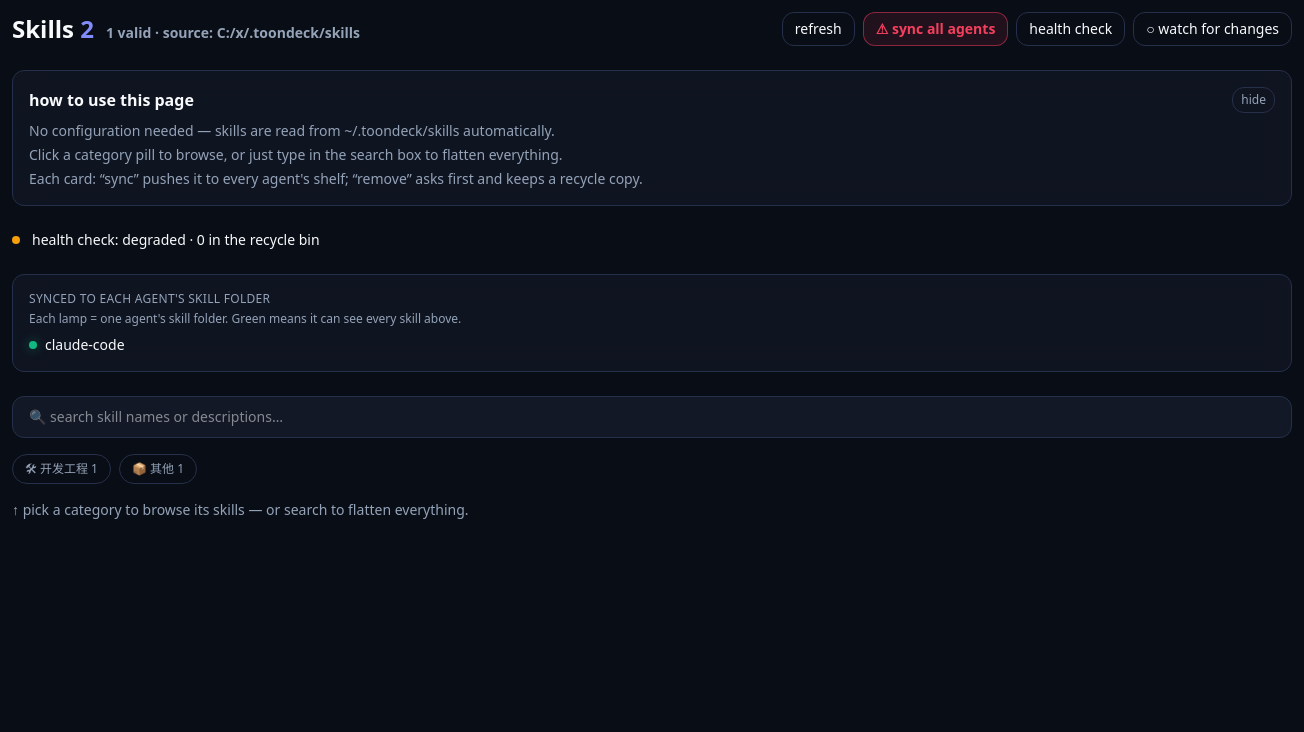
Scenario: SkillsPanel card actions (UX-017) › surfaces a toast when single-skill sync fails
Step 1. Click the button with test id "category-pill-📦 其他" → {"x": 158, "y": 469}, box [119, 454, 197, 484]
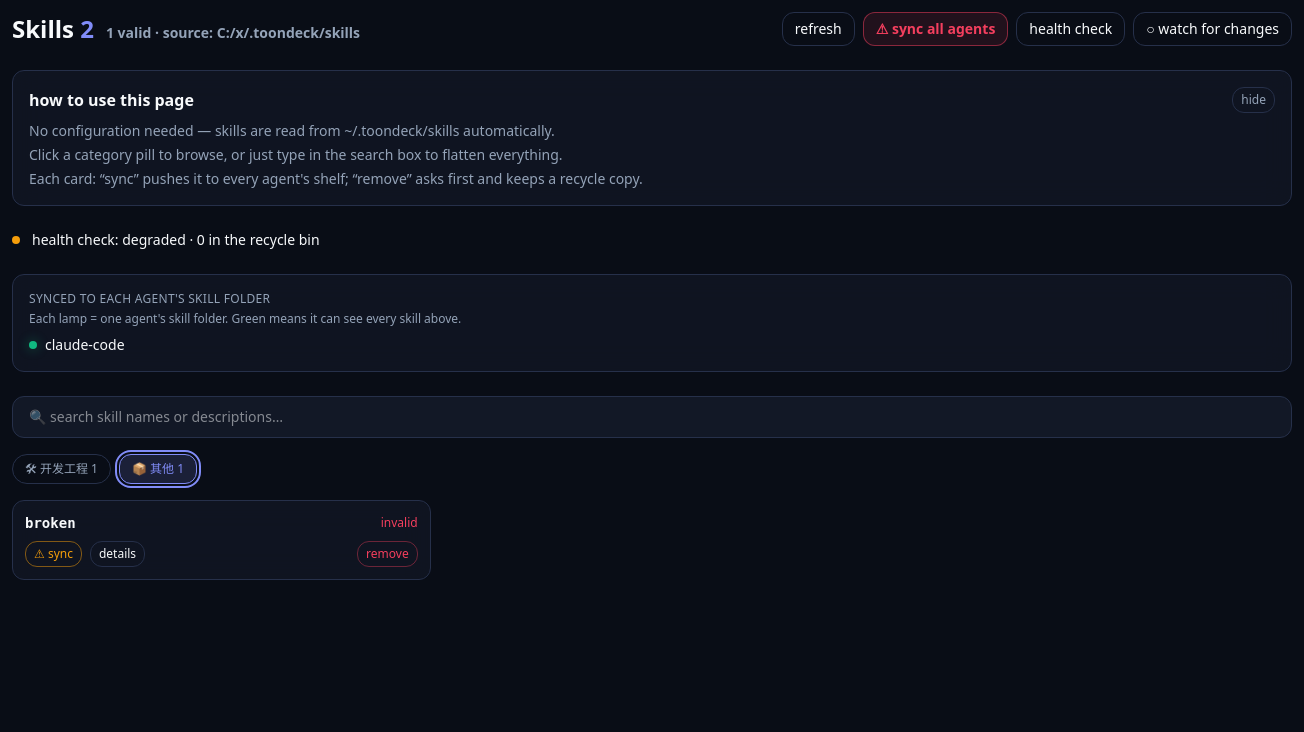
Step 2. Click the button with test id "skill-sync-broken" → {"x": 53, "y": 554}, box [25, 541, 82, 567]
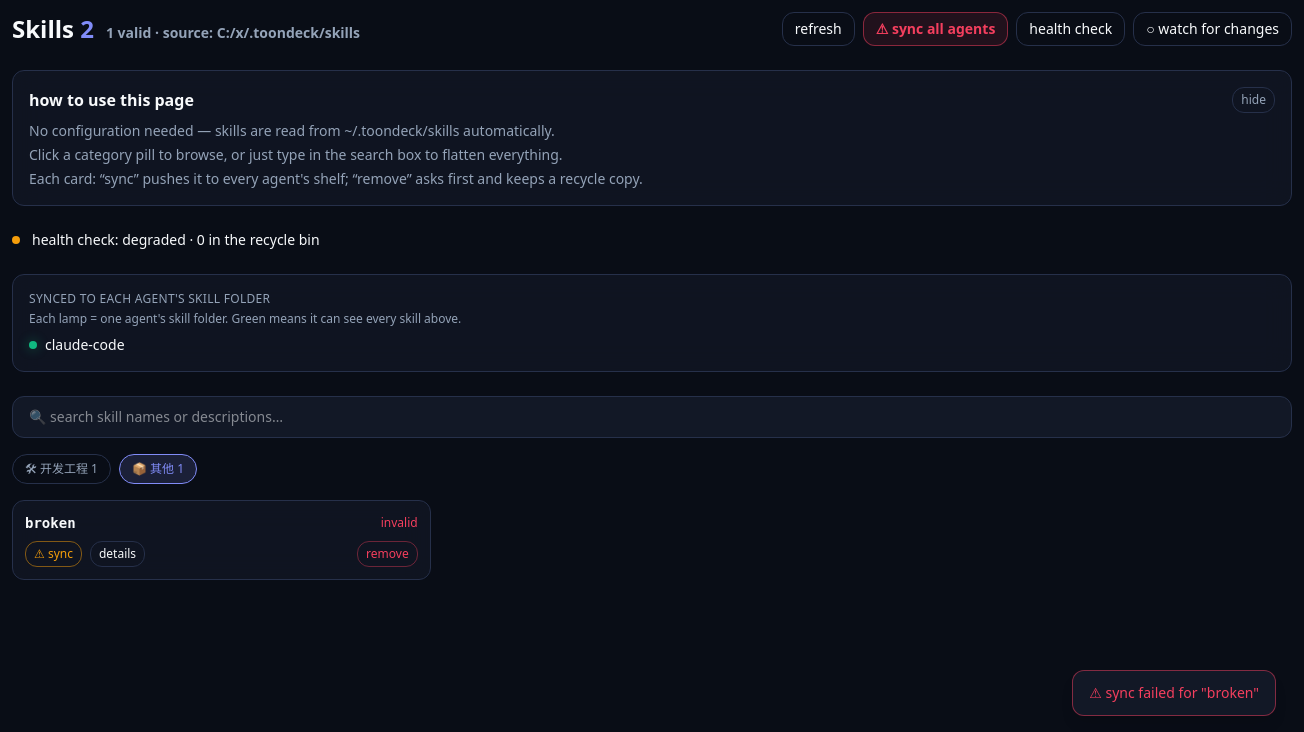
Expected: the button "⚠ sync failed for \"broken\"" is shown, [1072, 670, 1276, 716]
